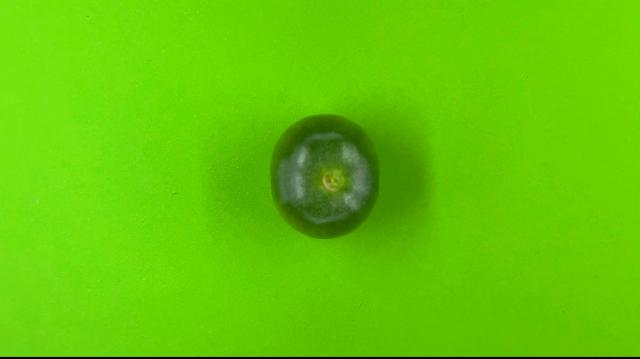Fruit Maturation: (268, 114, 381, 240)
